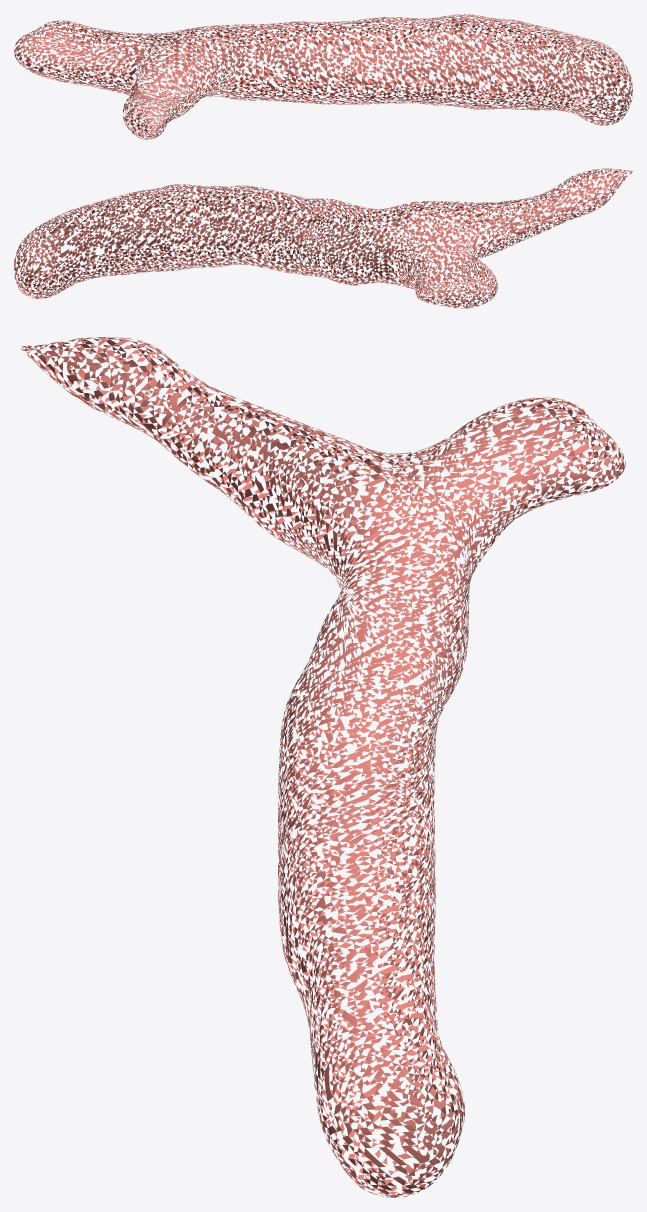
The model's file is morph_001.glb.
3 views of the same model, one above another, from view 1: azimuth 30°, elevation 25°; view 2: azimuth 150°, elevation 25°; view 3: azimuth 270°, elevation 25° (orthographic). The views are drawn at different scales.
Bounding box in the file's own units: 111 × 39.14 × 56.05.
